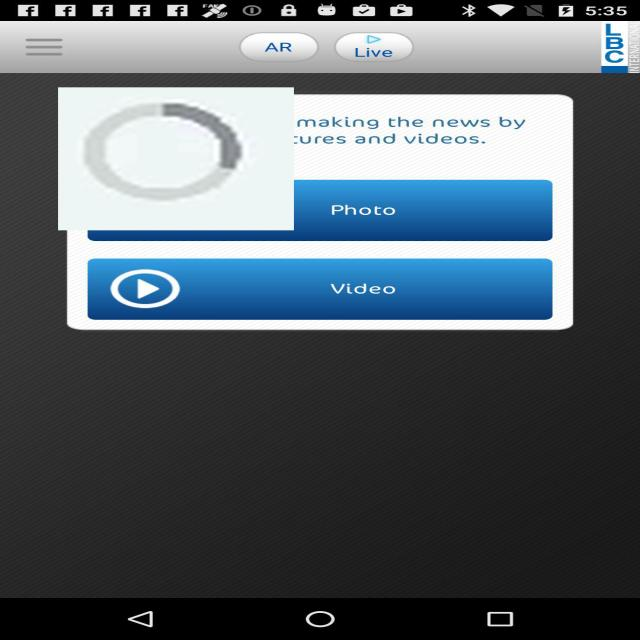misdirection: (58, 88, 294, 230)
